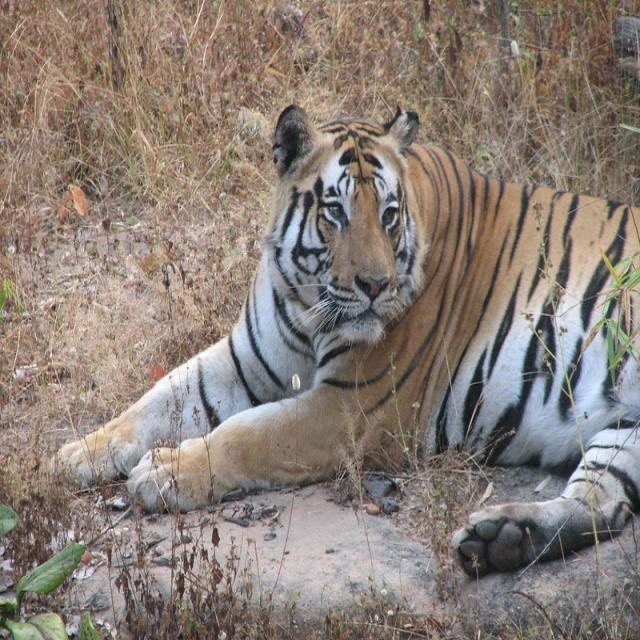Tiger: (78, 82, 632, 575)
